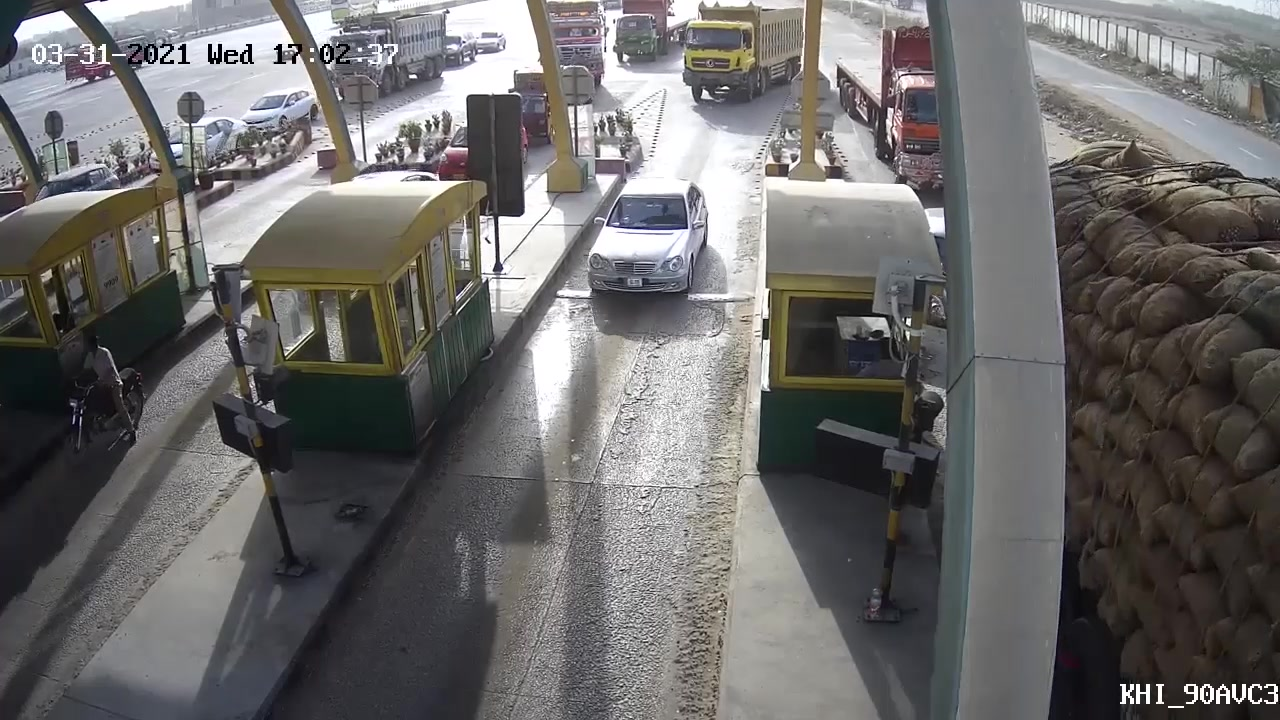F1: (586, 174, 708, 311)
